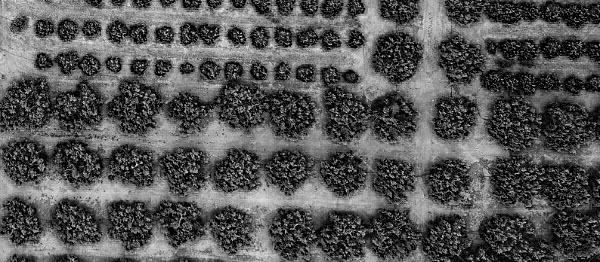TREE: (491, 97, 541, 154), (483, 218, 544, 262), (108, 83, 159, 133), (546, 104, 597, 153), (369, 210, 421, 258), (440, 35, 484, 88), (54, 197, 102, 245), (321, 210, 368, 259), (266, 148, 314, 195), (493, 159, 542, 205), (373, 90, 417, 141), (271, 208, 315, 259), (554, 214, 600, 262), (159, 148, 208, 193), (424, 216, 472, 261), (58, 84, 102, 131), (323, 90, 367, 137), (55, 142, 103, 185), (159, 203, 204, 248), (269, 93, 315, 137), (108, 203, 152, 249), (321, 151, 368, 194), (222, 84, 264, 132), (1, 198, 41, 247), (215, 148, 259, 192), (111, 144, 155, 188), (1, 139, 46, 182), (427, 159, 470, 204), (6, 81, 48, 126), (377, 35, 419, 80), (548, 165, 589, 208), (376, 158, 414, 204), (213, 206, 250, 253), (168, 93, 210, 132), (437, 98, 475, 138), (447, 1, 484, 25), (485, 1, 516, 27), (380, 1, 419, 21), (562, 2, 588, 29), (537, 73, 563, 93), (483, 71, 504, 92), (518, 1, 538, 22), (565, 76, 586, 95), (542, 1, 561, 22), (518, 73, 536, 95), (521, 41, 539, 63), (298, 29, 318, 48), (564, 40, 583, 60), (542, 37, 560, 58), (322, 2, 344, 17), (201, 26, 219, 44), (61, 53, 79, 71), (110, 21, 127, 40), (252, 29, 269, 48), (81, 56, 100, 73), (10, 16, 27, 35), (61, 19, 77, 39), (182, 24, 198, 44), (225, 63, 243, 80), (502, 41, 520, 58), (200, 64, 219, 80), (297, 65, 314, 82), (322, 32, 341, 47), (252, 1, 272, 15), (587, 41, 600, 62), (230, 29, 247, 45), (322, 68, 339, 84), (503, 75, 519, 92), (157, 27, 175, 42), (278, 29, 292, 48), (131, 24, 146, 41), (155, 61, 172, 76), (251, 63, 266, 80), (85, 19, 98, 38), (36, 21, 52, 36), (301, 1, 318, 15), (277, 1, 294, 15), (275, 64, 288, 82), (132, 59, 148, 73), (348, 2, 365, 15), (37, 54, 52, 68), (350, 32, 363, 48), (590, 1, 600, 21), (108, 58, 123, 71), (589, 76, 600, 93), (345, 69, 358, 82), (180, 63, 195, 73), (489, 41, 496, 54)
